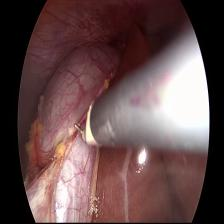Hook: (72, 99, 101, 152)
